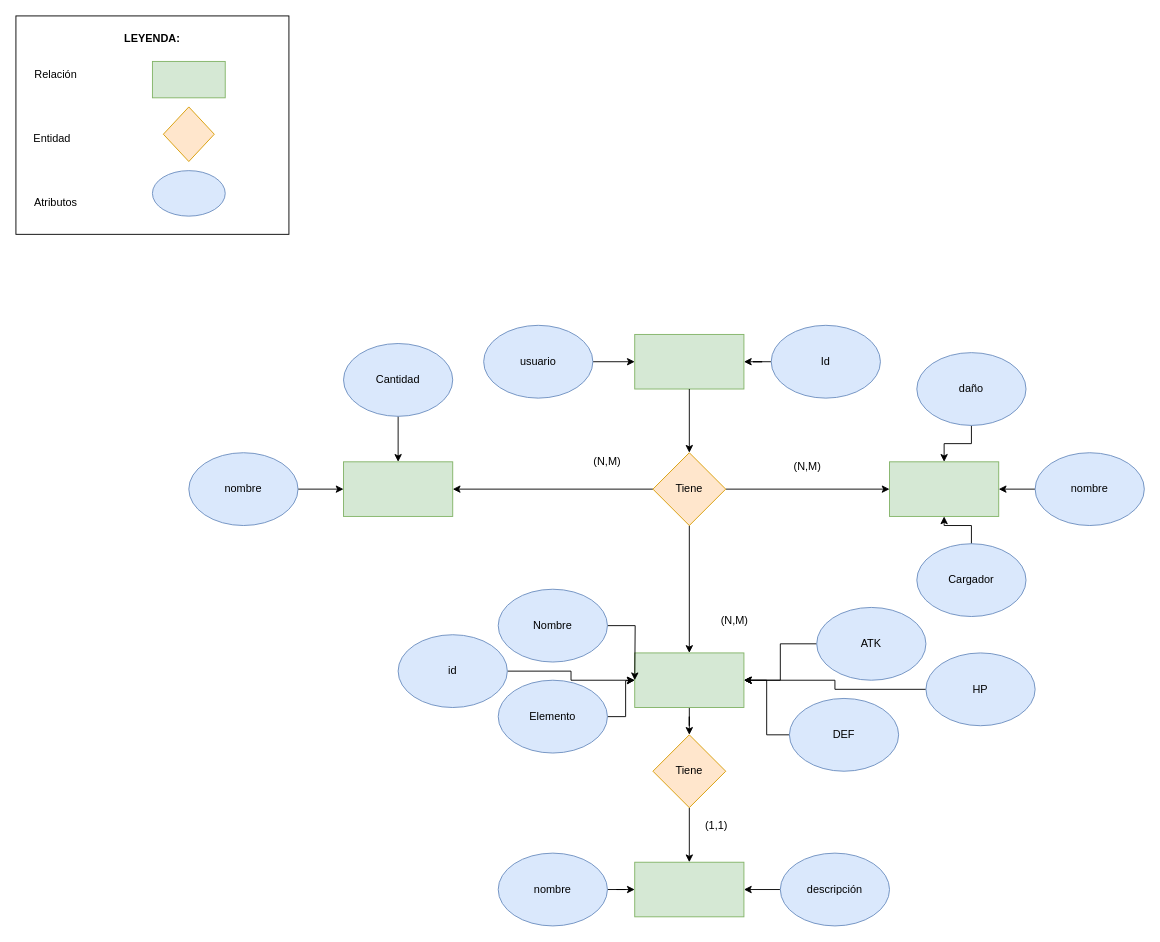
Some shapes in this 1160 by 942 pixel diagram are drawn without their labels. Each missing label, with the centre of its shape:
Arma: [944,488]
Habilidad: [689,889]
Material: [398,488]
Pal: [689,680]
Personaje: [689,361]
